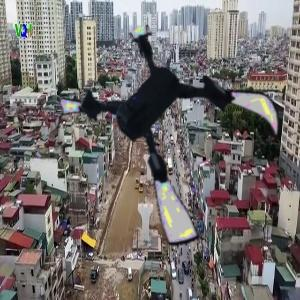drone: (63, 25, 283, 245)
